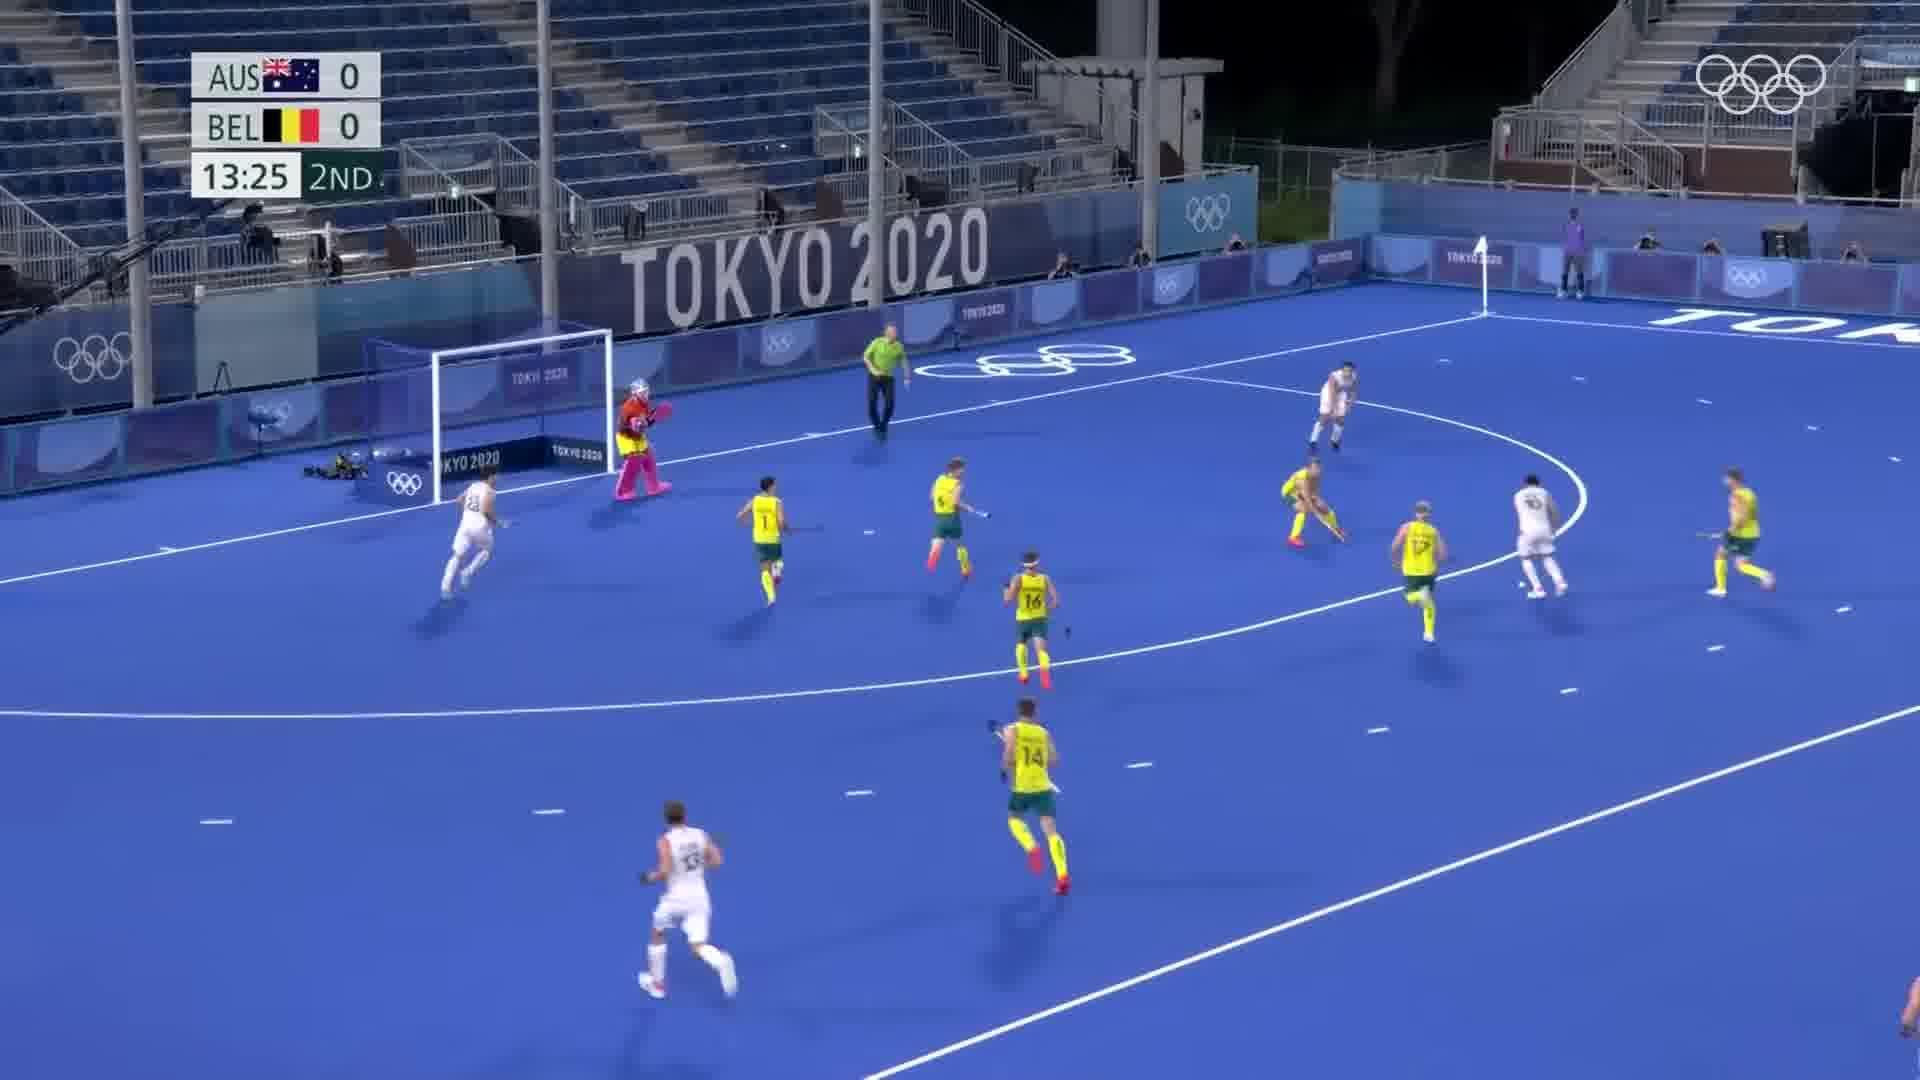ball: (1512, 575, 1529, 595)
